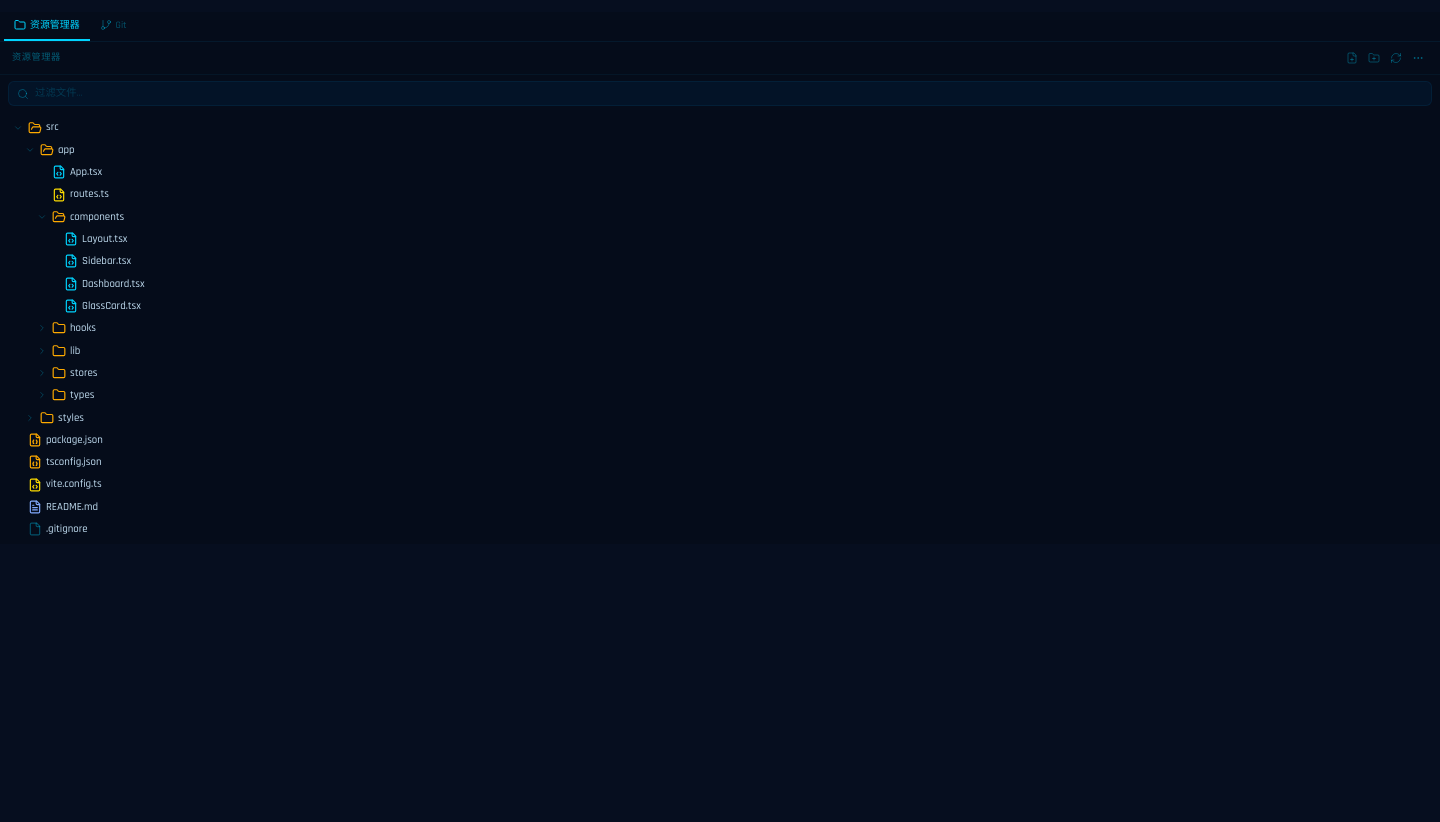
FileExplorer › 文件树渲染 › 点击文件夹展开子级
Click the button "hooks" at (42,328), box [4,317,1436,340]
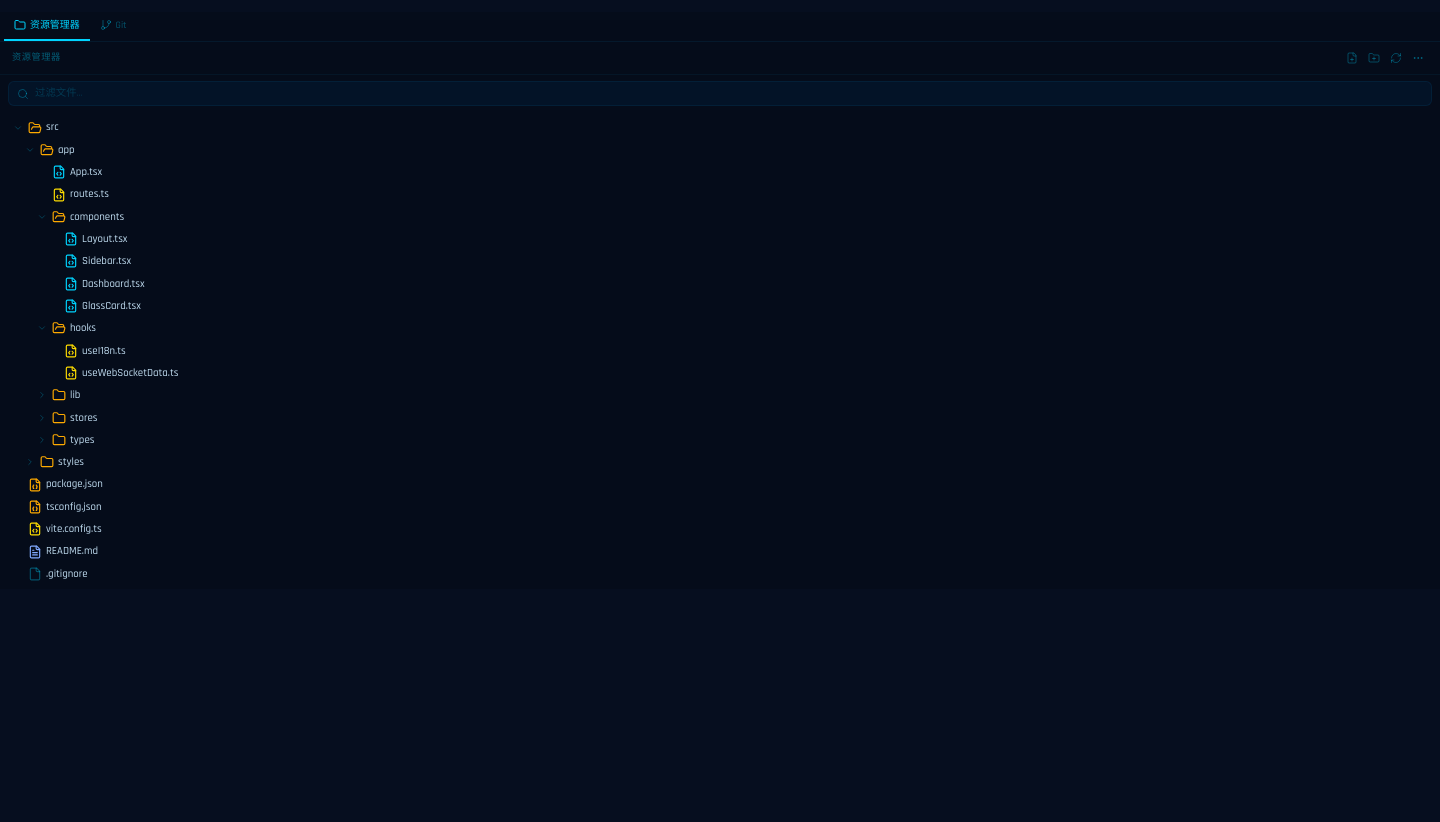
Expected: the text "useI18n.ts" is shown, [82,344,126,358]
Click the button "hooks" at (42,328), box [4,317,1436,340]
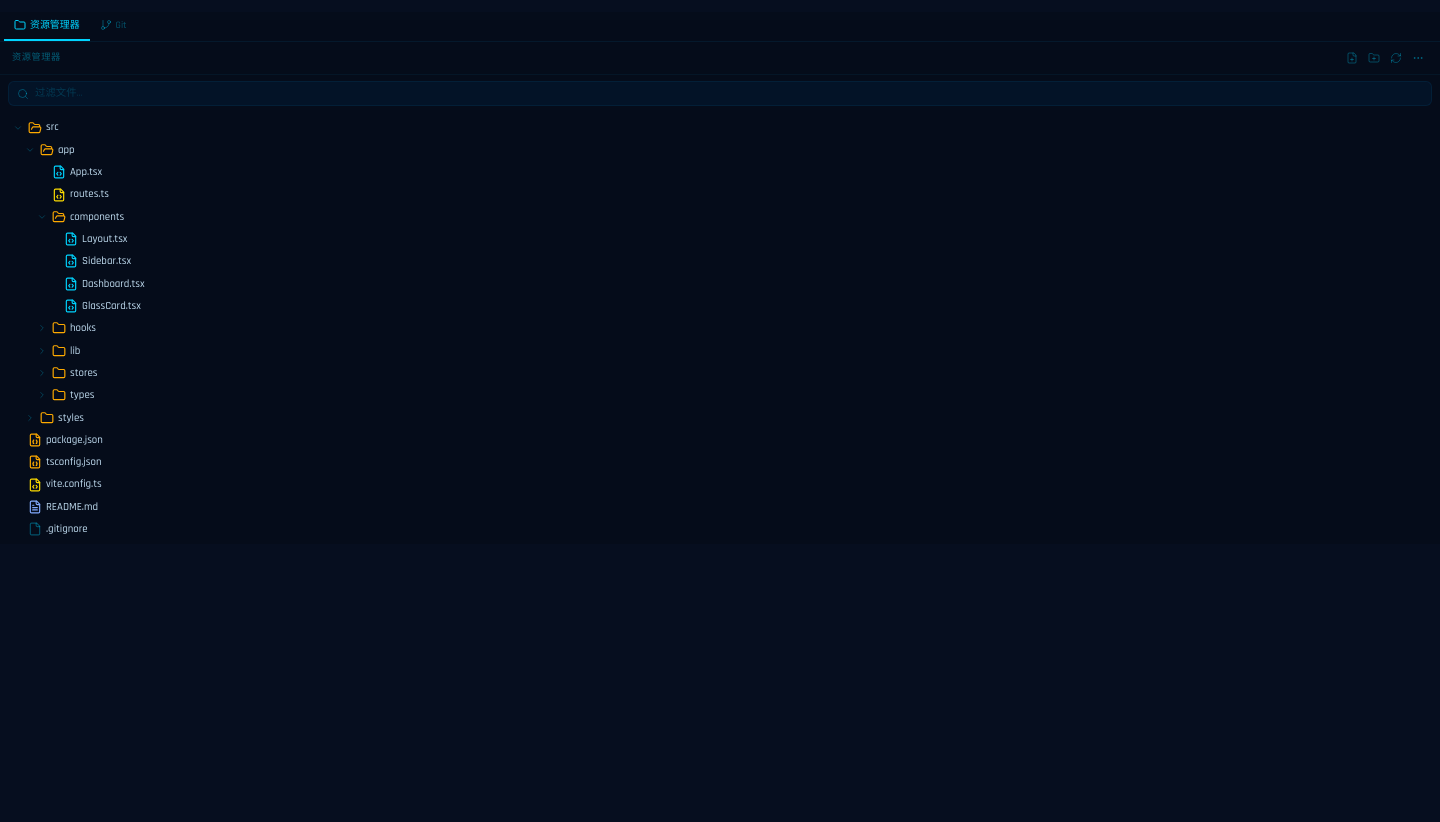
Expected: the button "useI18n.ts" is gone
